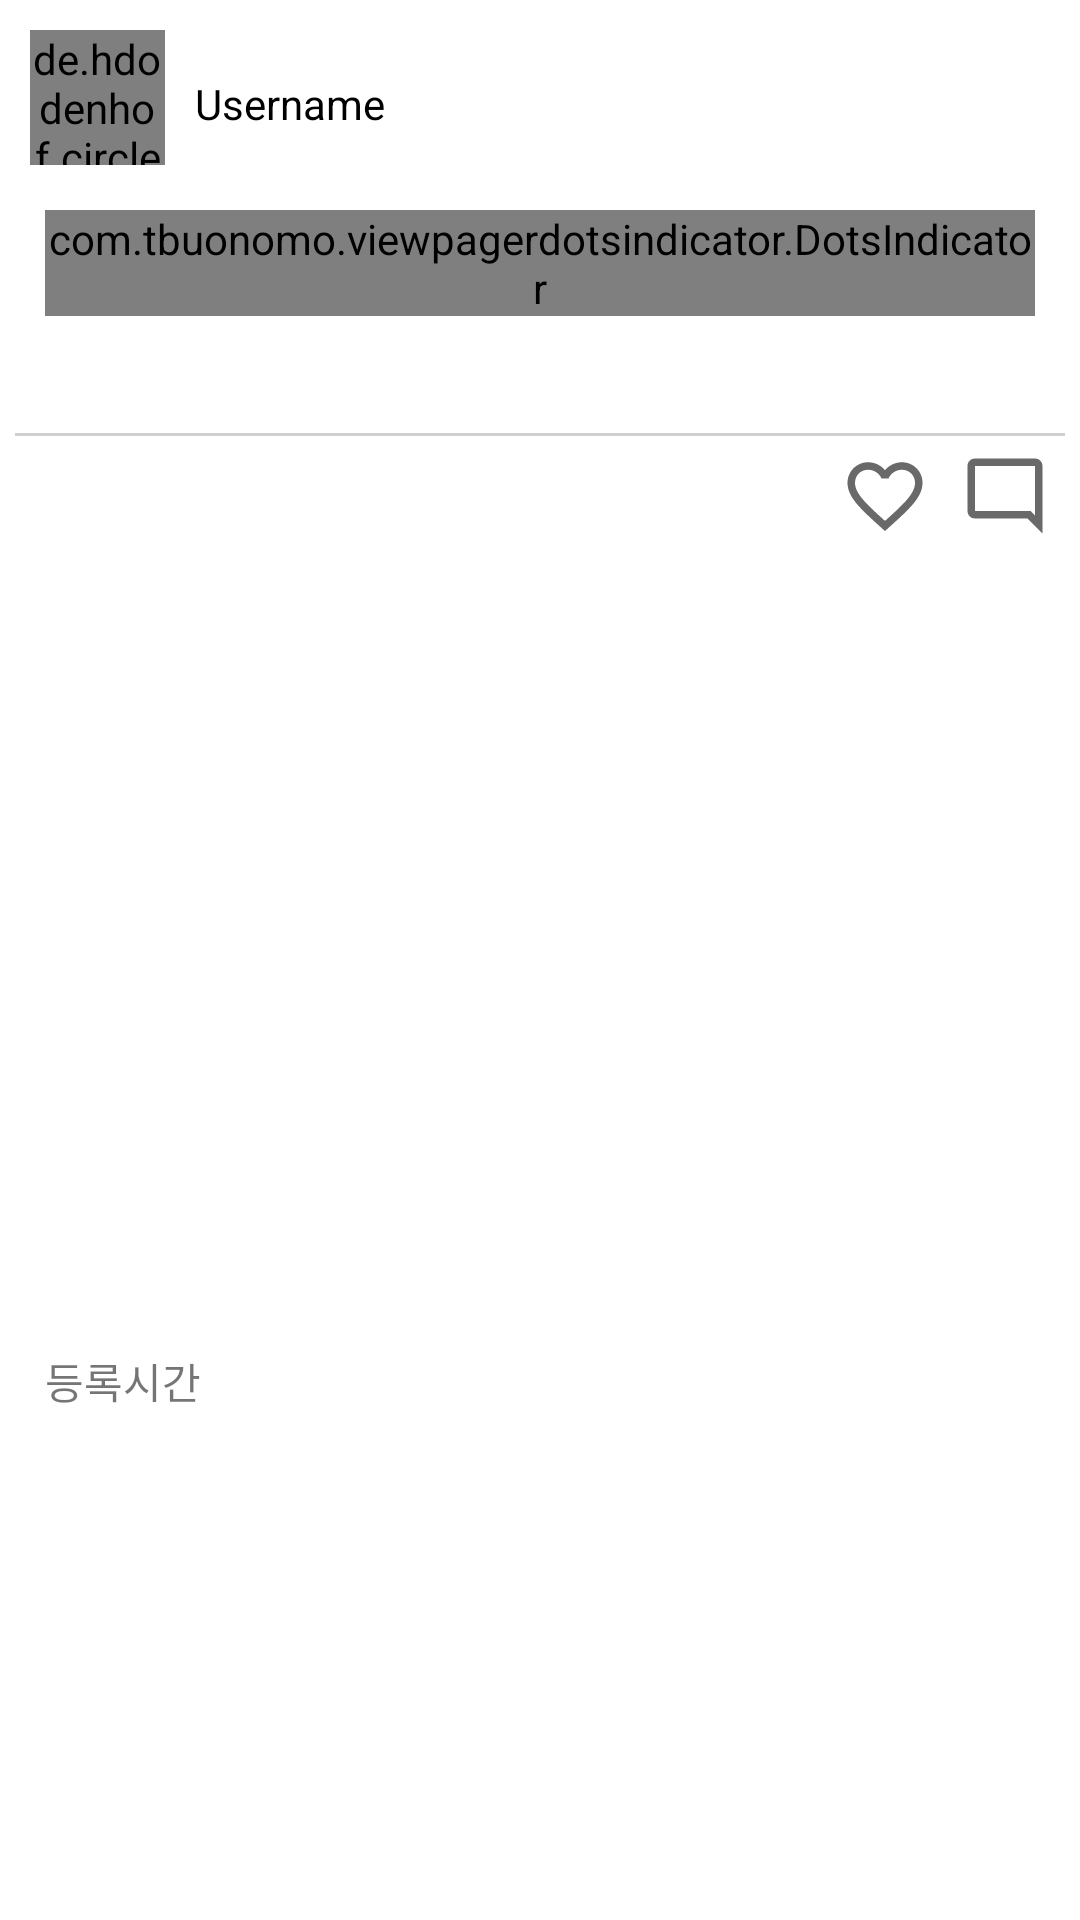

Screen size 1080 x 1920. Icon name, then its center in pixels as point (x, y):
favorite border: point (885, 496)
mode comment: point (1005, 495)
